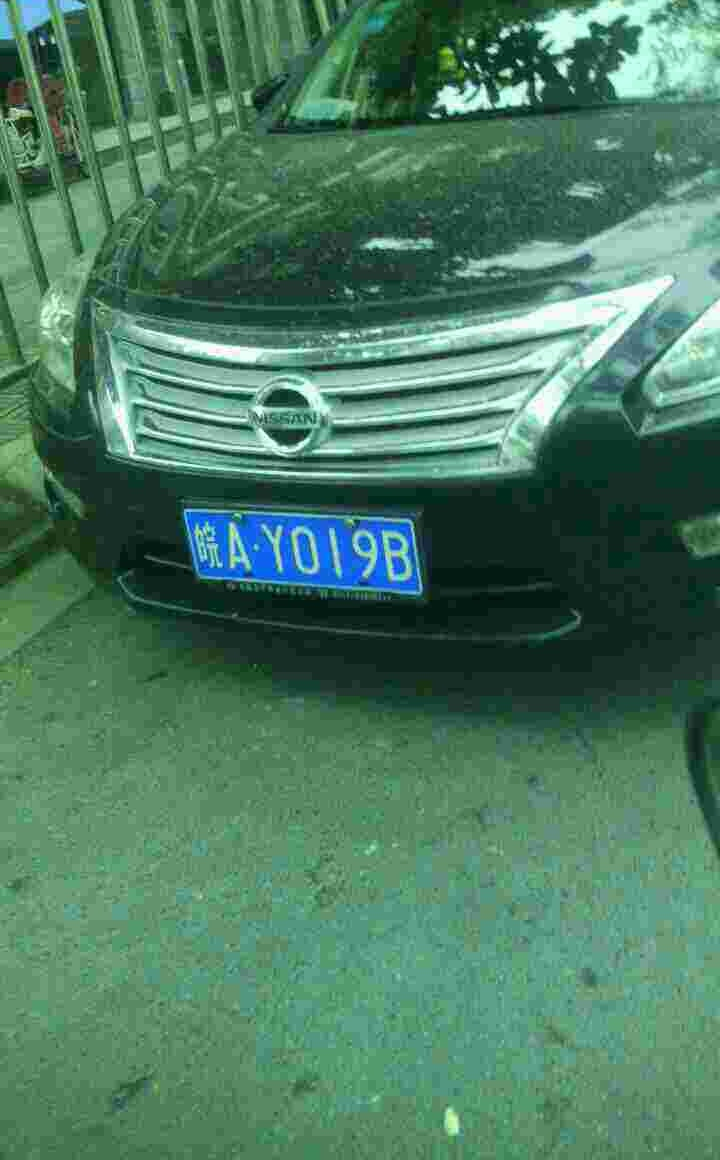plate: (181, 502, 429, 599)
